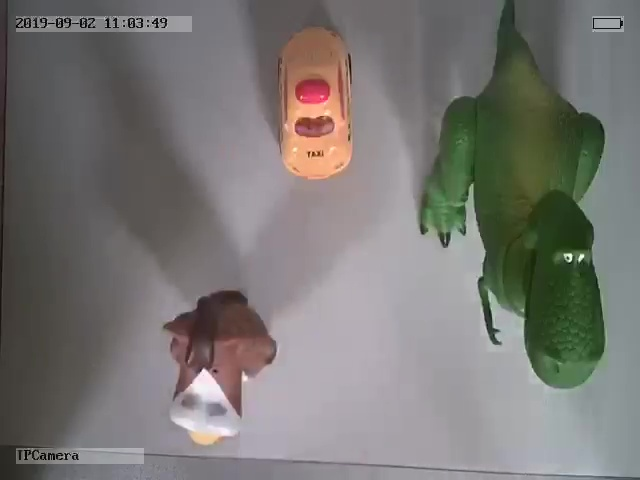car: (276, 25, 356, 179)
horse: (163, 288, 277, 447)
rex: (417, 4, 606, 391)
